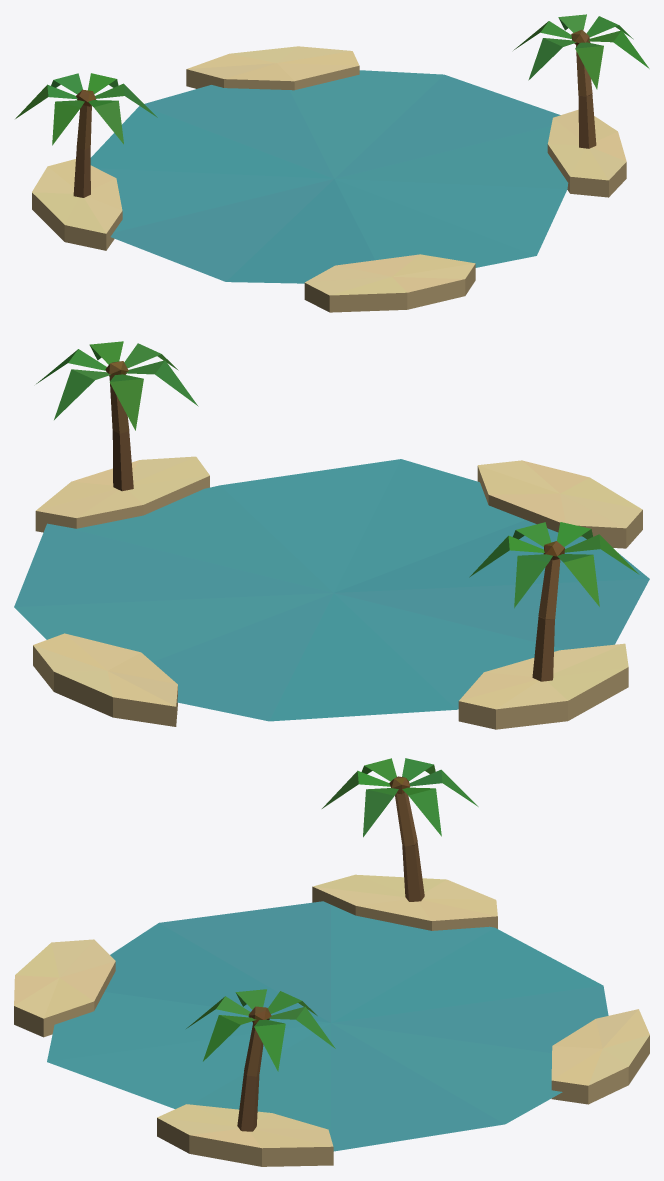
The model's file is Atoll.glb.
3 views of the same model, one above another, from view 1: azimuth 30°, elevation 25°; view 2: azimuth 150°, elevation 25°; view 3: azimuth 270°, elevation 25° (orthographic). The views are drawn at different scales.
Parts seen in each view (by area): view 1: Atoll; view 2: Atoll; view 3: Atoll.
Boxes of the visible parts, x1,y1,x2,y2 form: Atoll: [15, 14, 649, 312]; Atoll: [14, 341, 649, 729]; Atoll: [14, 758, 649, 1166].
Size of the model in its own units: 1.34 by 0.2965 by 1.23.
